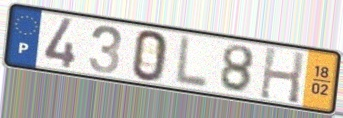0: (129, 28, 170, 84)
3: (87, 23, 124, 75)
4: (42, 14, 79, 71)
8: (217, 44, 258, 95)
H: (257, 44, 307, 106)
L: (172, 34, 212, 92)
